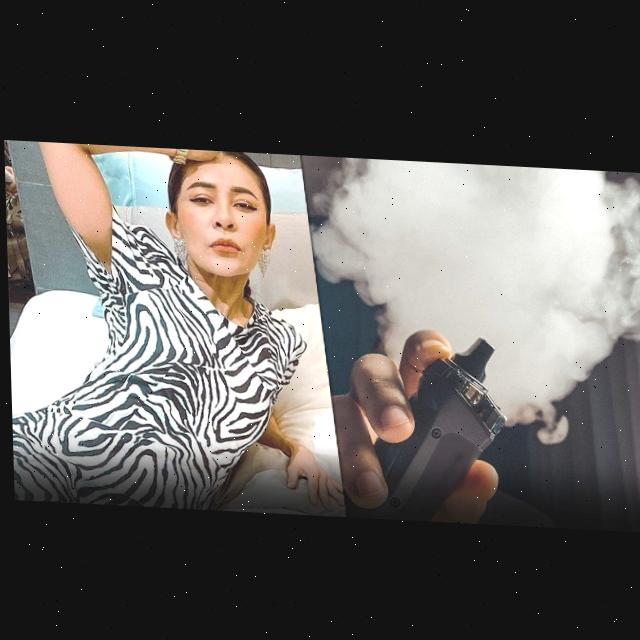vape: (339, 326, 506, 520)
